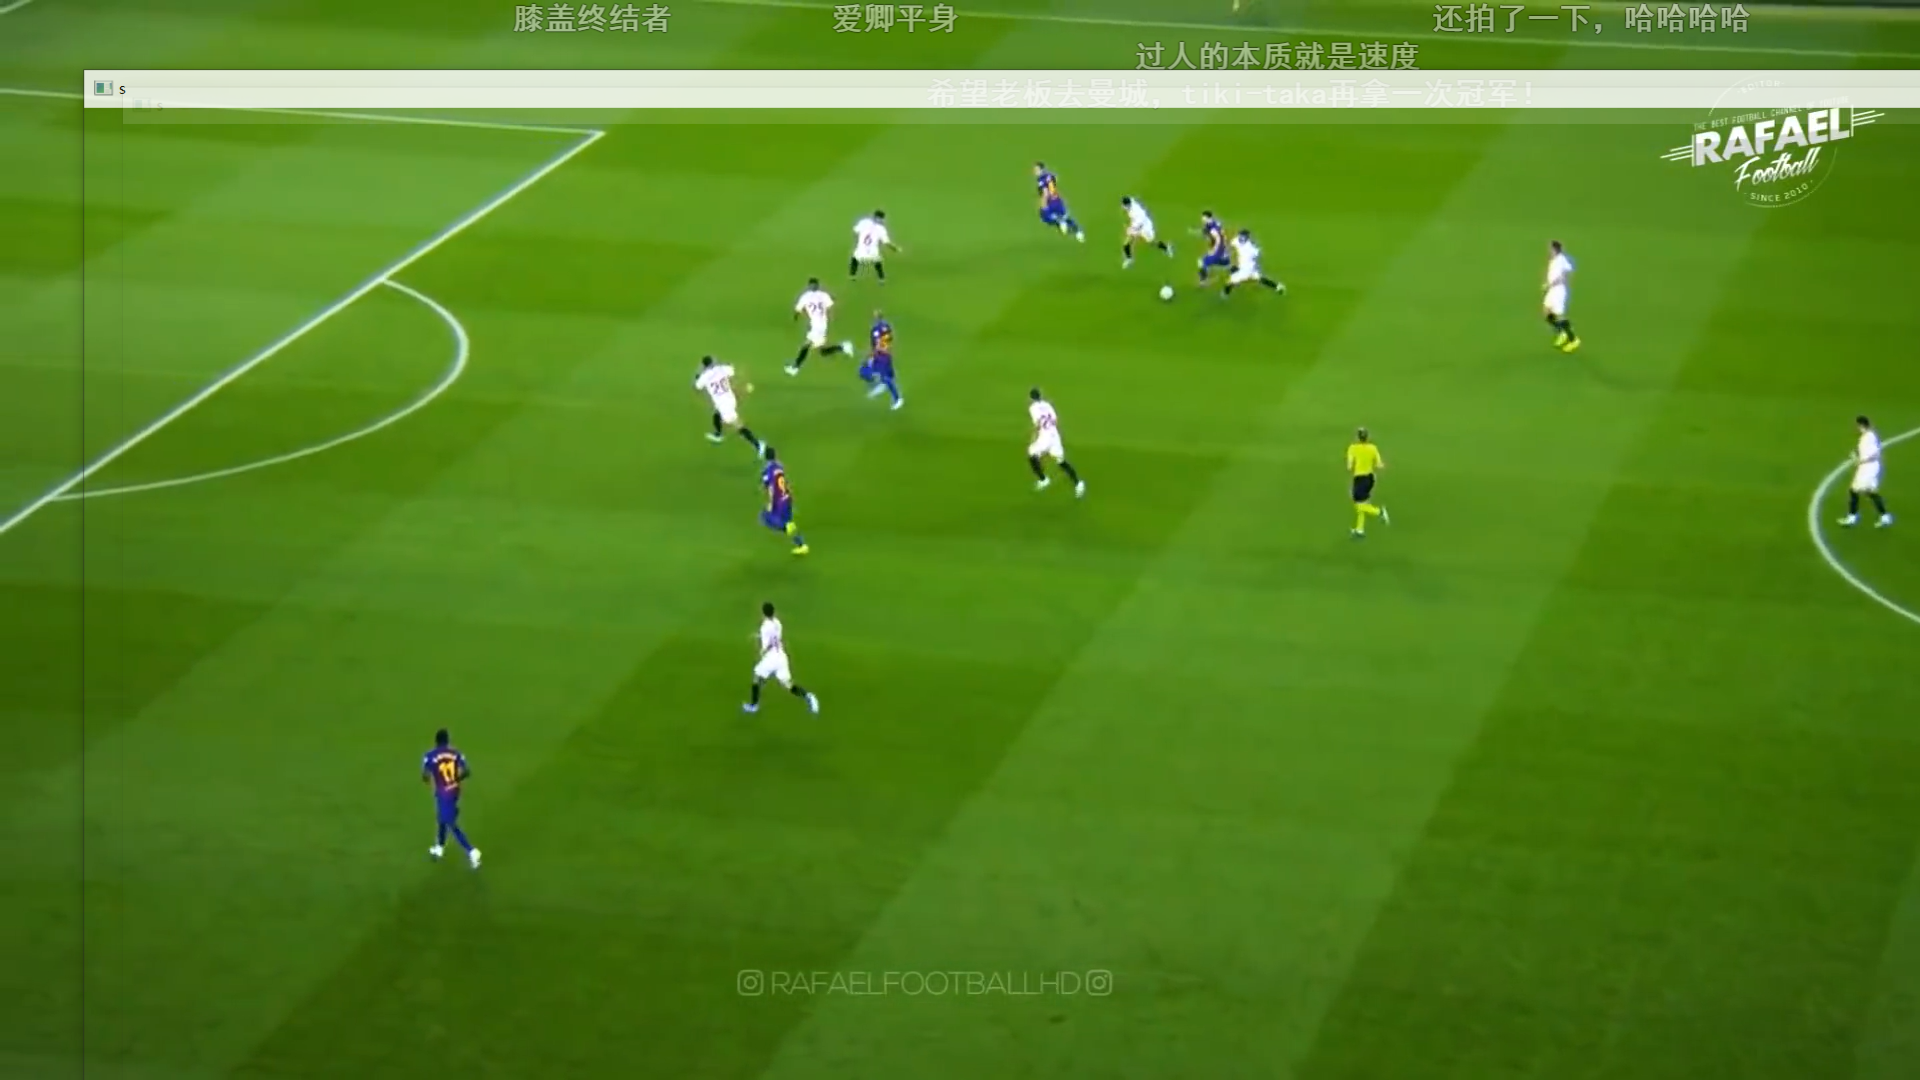ft: (1156, 285, 1175, 303)
